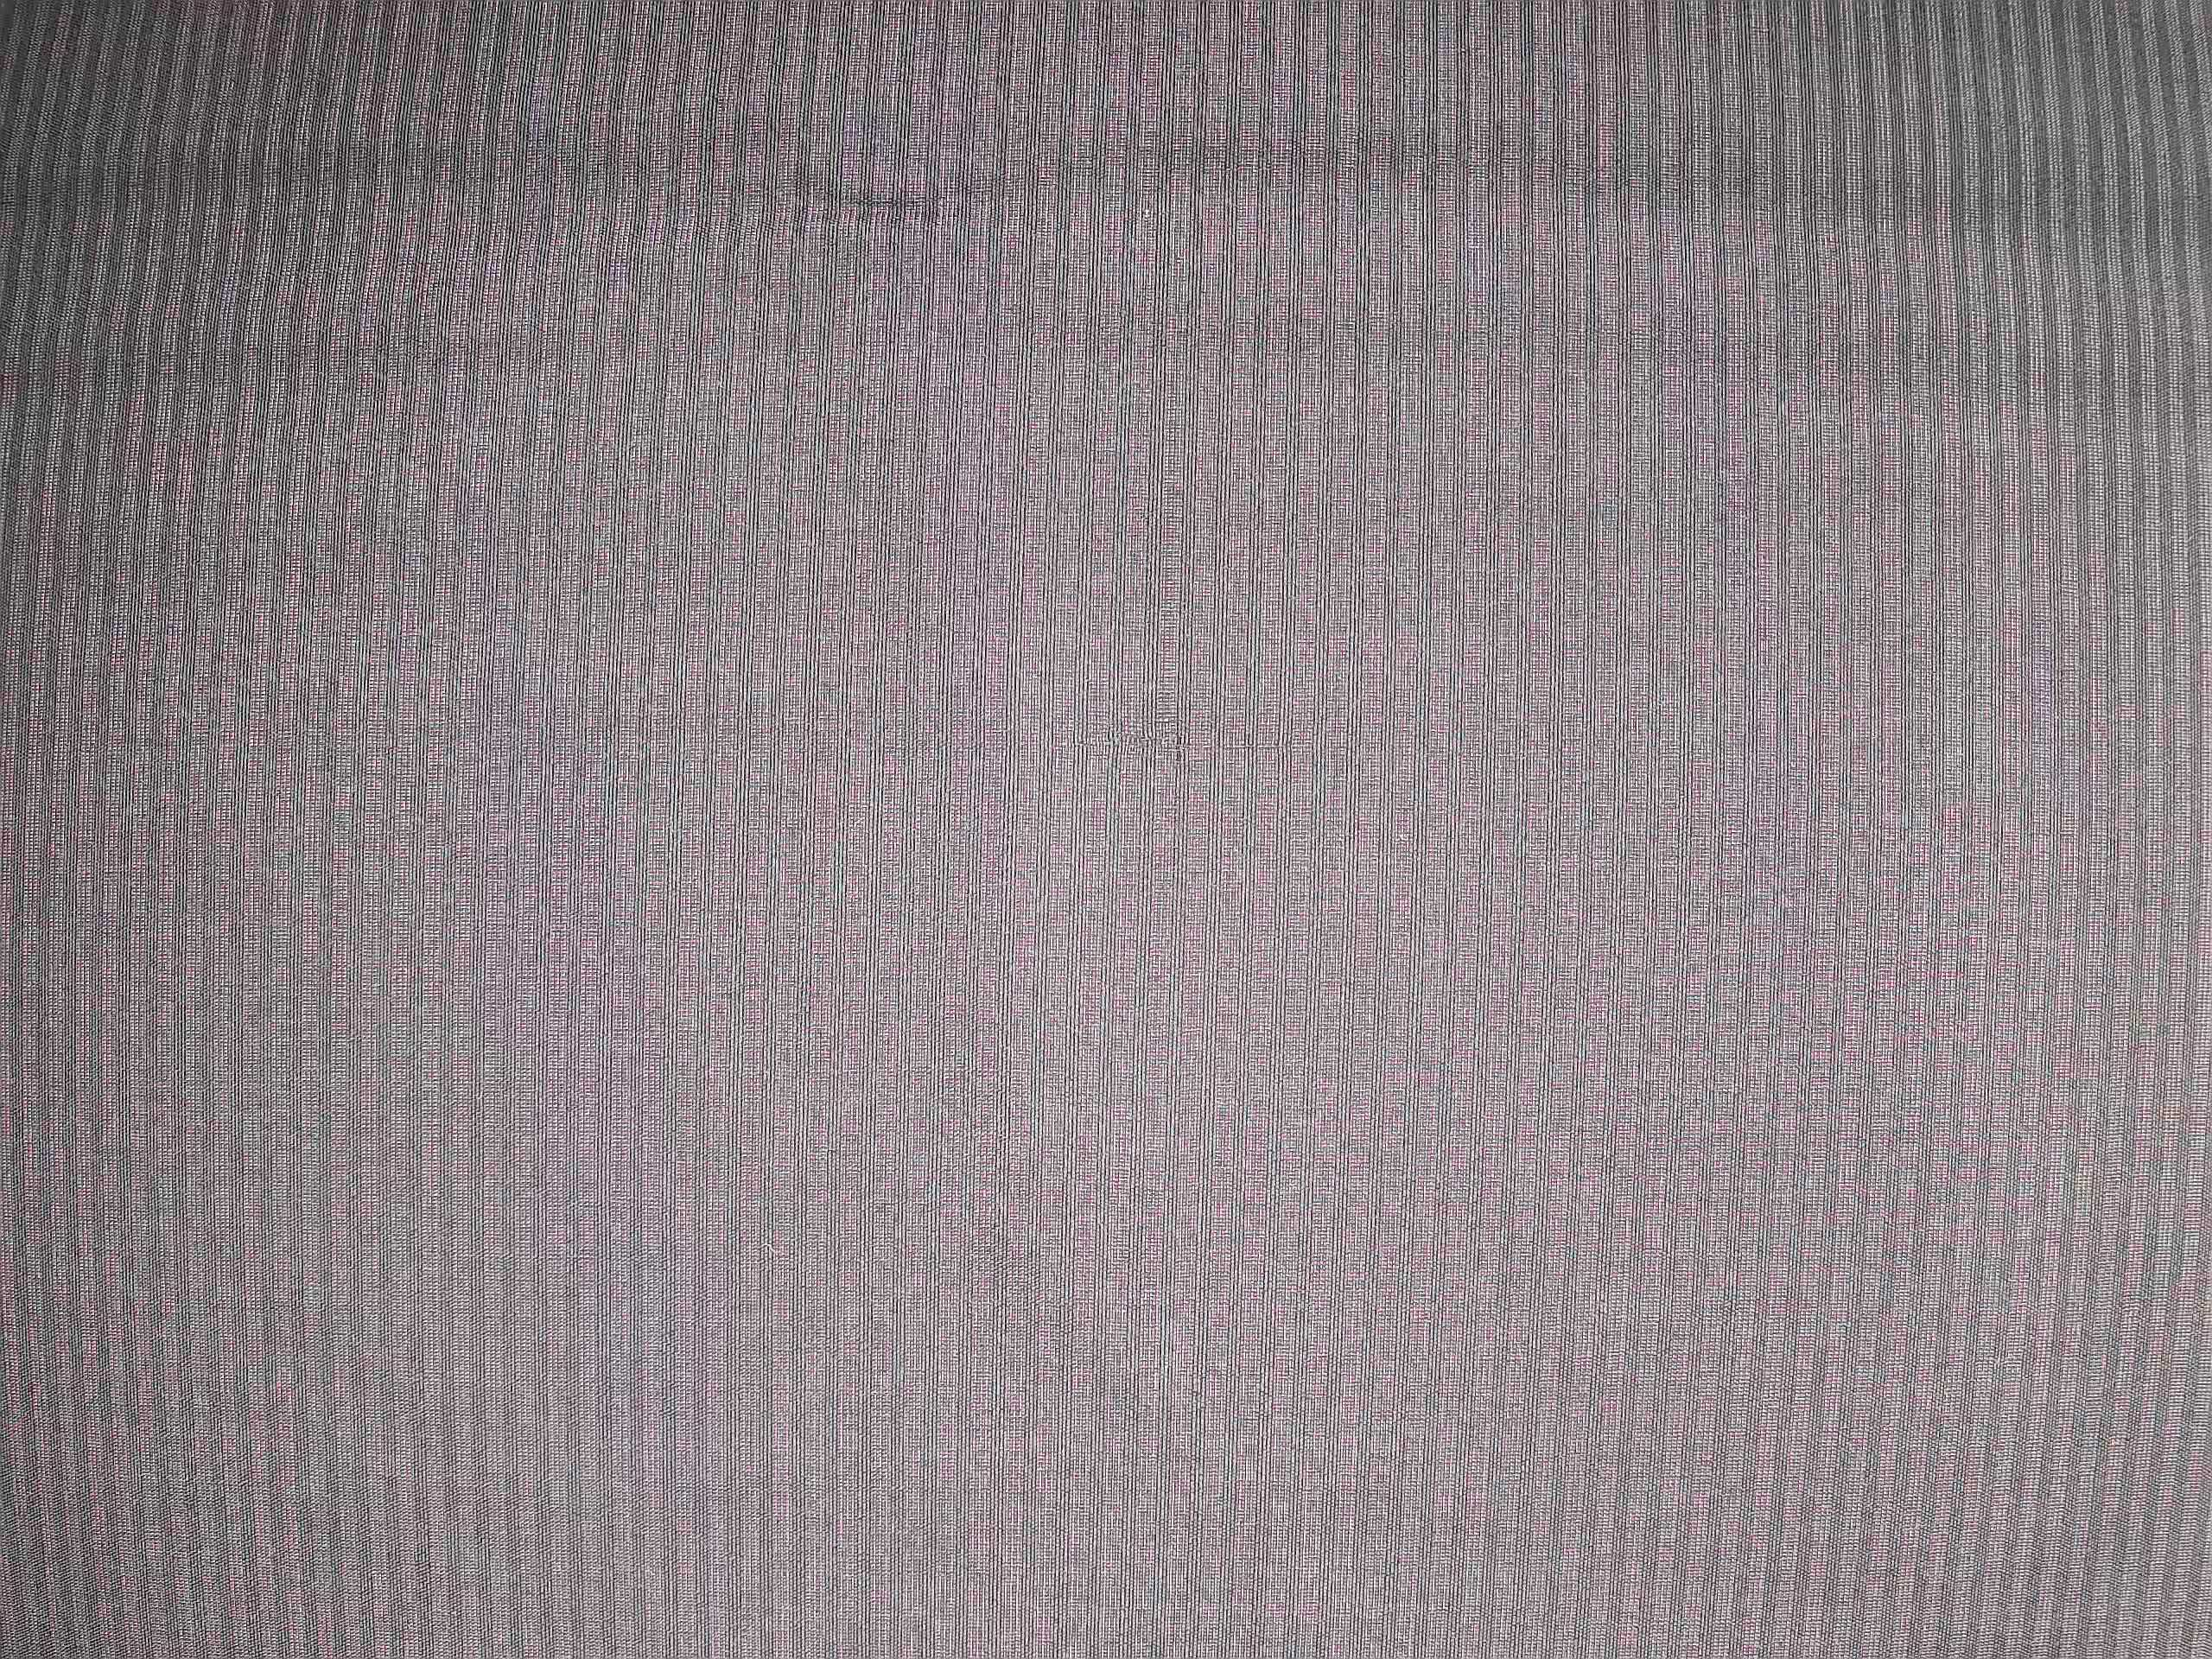thin-spinning: (894, 708, 1325, 777)
